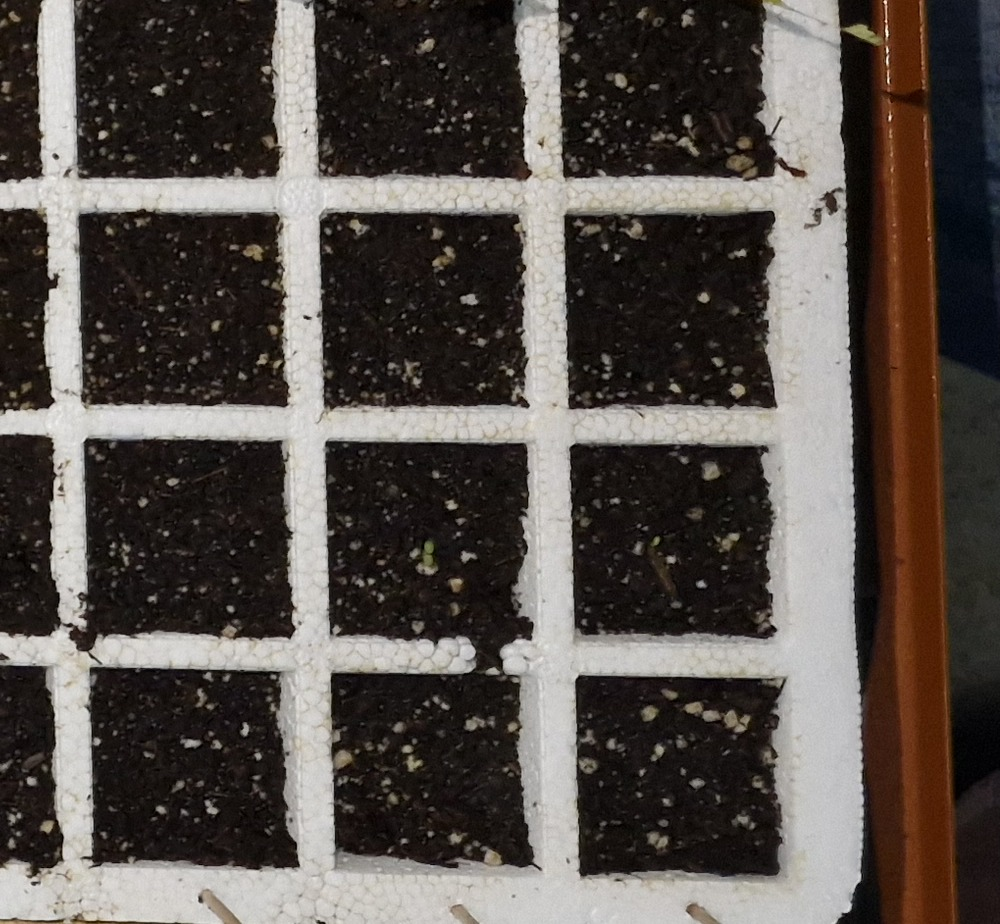Folha: (425, 542, 435, 554)
Germinacao: (424, 540, 434, 566)
